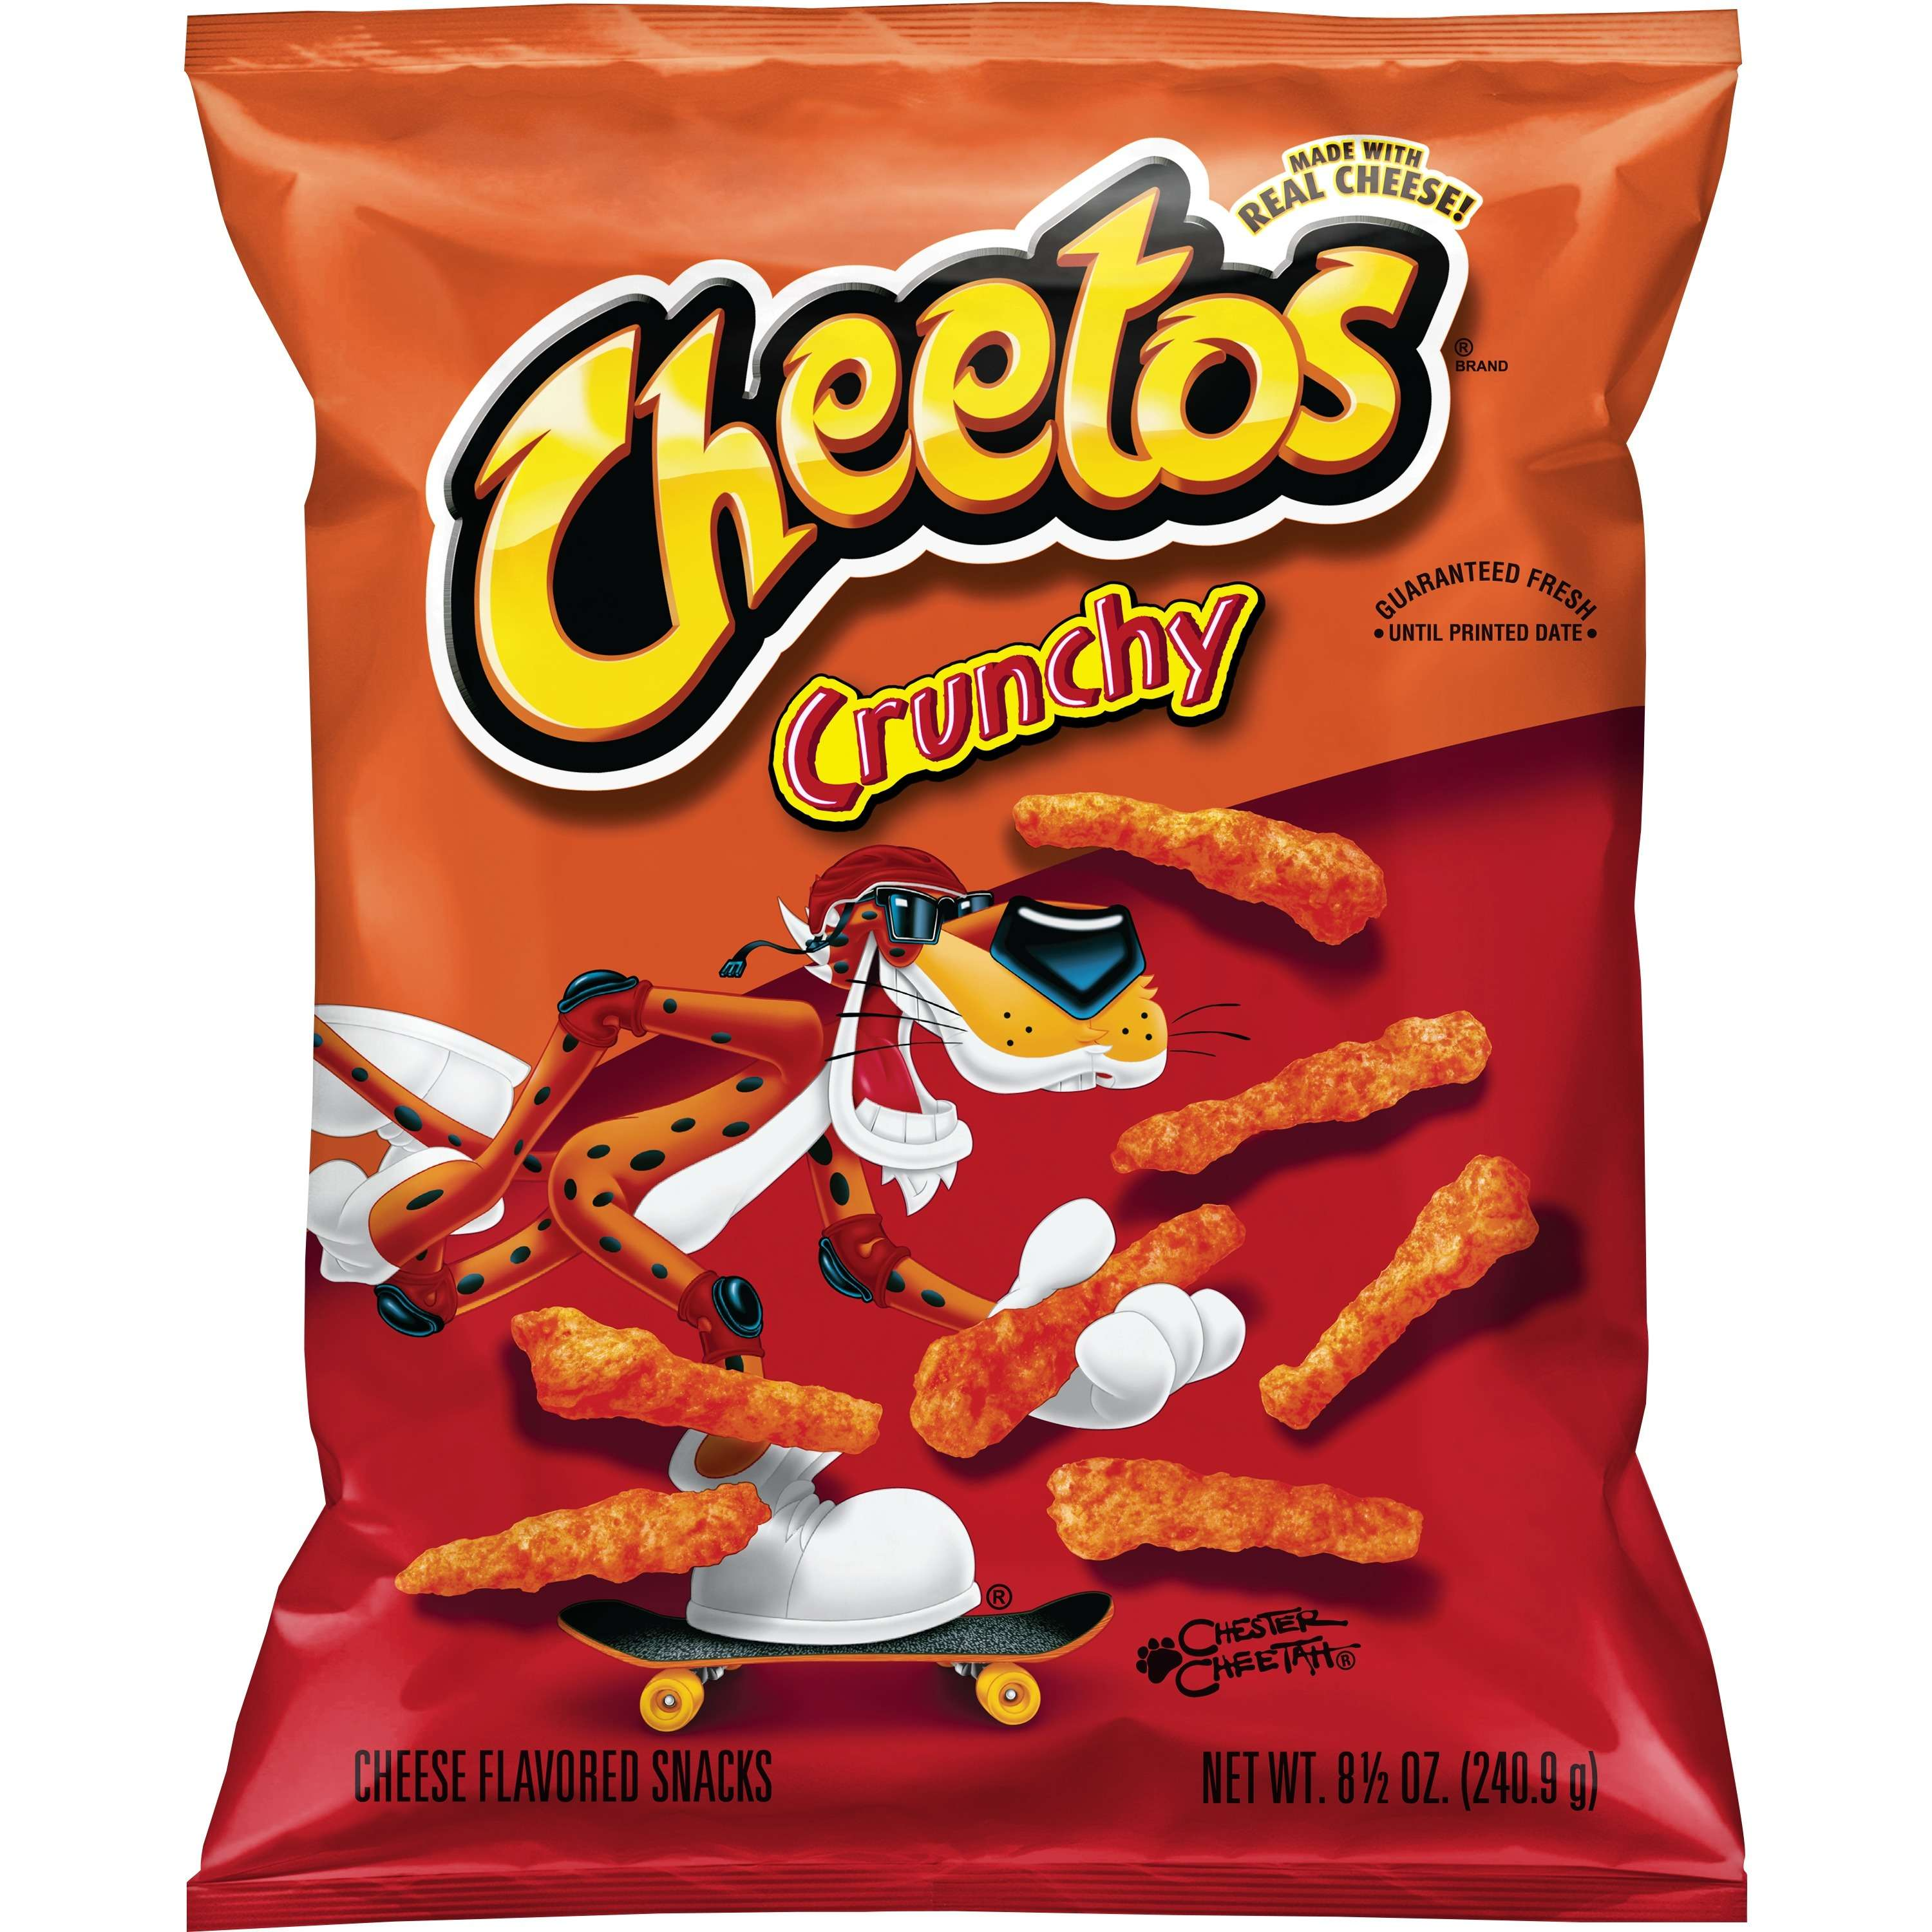cheetos: (173, 12, 1755, 1930)
